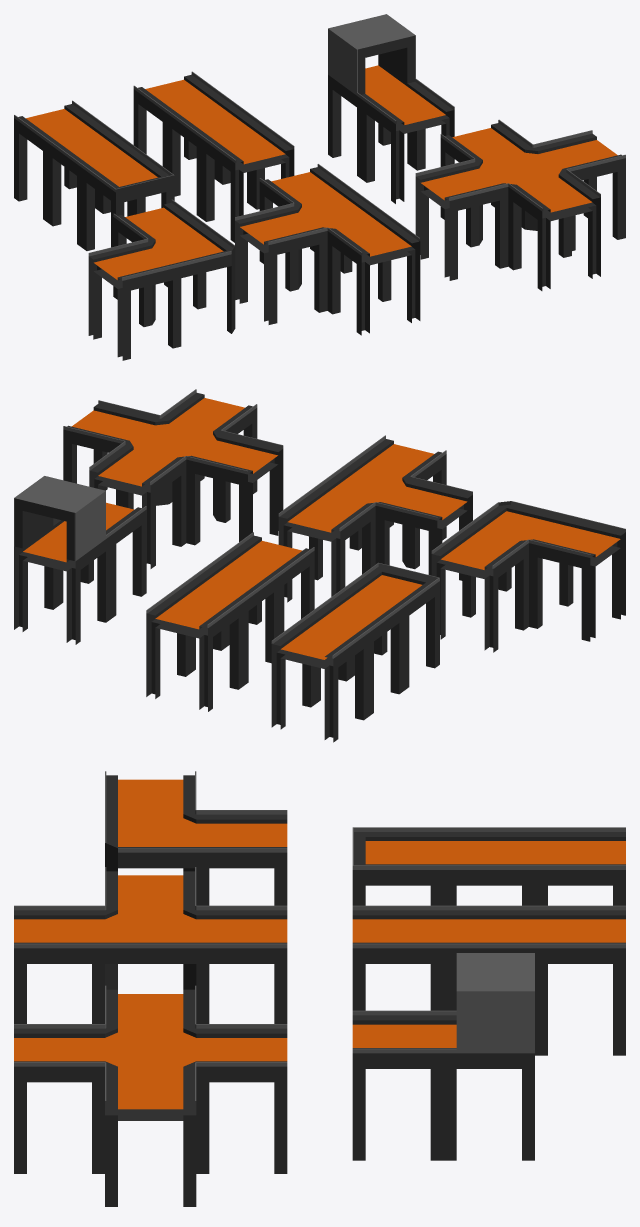
The model's file is factory_modular_conveyorbelt_01.FBX.
The picture shows the model from 3 angles, top to bottom: view 1: azimuth 30°, elevation 25°; view 2: azimuth 150°, elevation 25°; view 3: azimuth 270°, elevation 25°; orthographic projection. The views are drawn at different scales.
Visible parts, largest first — view 1: factory_conveyor_crossroads_01, factory_conveyor+_tjunction_01, factory_convayor_end_01, factory_conveyor+_corner_01, factory_convayor_straight_003, factory_convayor_deadend_01; view 2: factory_conveyor_crossroads_01, factory_conveyor+_corner_01, factory_conveyor+_tjunction_01, factory_convayor_deadend_01, factory_convayor_straight_003, factory_convayor_end_01; view 3: factory_conveyor_crossroads_01, factory_conveyor+_tjunction_01, factory_convayor_end_01, factory_convayor_straight_003, factory_convayor_deadend_01, factory_conveyor+_corner_01.
Boxes of the visible parts, <box> form: factory_conveyor_crossroads_01: <box>415,119,625,290</box>; factory_conveyor+_tjunction_01: <box>235,164,420,335</box>; factory_convayor_end_01: <box>328,14,454,203</box>; factory_conveyor+_corner_01: <box>88,199,235,360</box>; factory_convayor_straight_003: <box>133,71,294,242</box>; factory_convayor_deadend_01: <box>14,100,174,250</box>; factory_conveyor_crossroads_01: <box>63,389,283,568</box>; factory_conveyor+_corner_01: <box>431,501,625,652</box>; factory_conveyor+_tjunction_01: <box>278,435,472,602</box>; factory_convayor_deadend_01: <box>271,562,439,742</box>; factory_convayor_straight_003: <box>146,532,314,711</box>; factory_convayor_end_01: <box>14,476,146,644</box>; factory_conveyor_crossroads_01: <box>14,985,287,1206</box>; factory_conveyor+_tjunction_01: <box>14,867,287,1023</box>; factory_convayor_end_01: <box>352,953,534,1160</box>; factory_convayor_straight_003: <box>352,905,625,1055</box>; factory_convayor_deadend_01: <box>352,827,625,905</box>; factory_conveyor+_corner_01: <box>105,771,287,905</box>.
Bounding box in the file's own units: 171 × 41 × 134.
